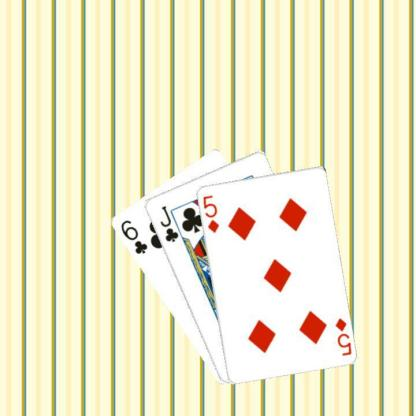5D: (200, 192, 220, 234), (332, 315, 352, 356)
6C: (118, 218, 148, 256)
JC: (157, 203, 180, 243)
